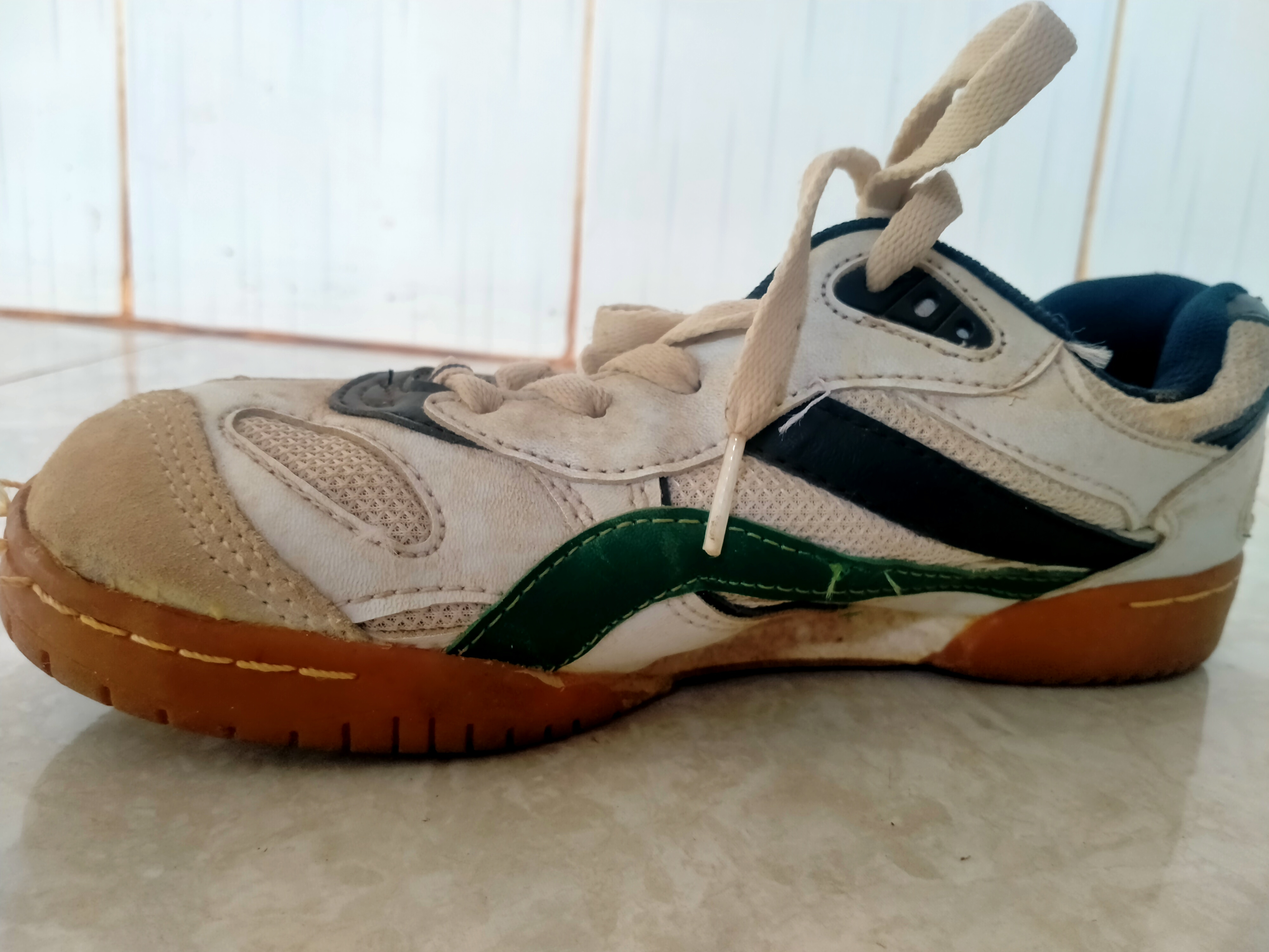broken: (795, 541, 898, 583), (4, 516, 47, 595)
